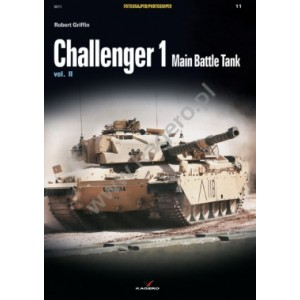Battle Tank: (44, 117, 250, 227)
